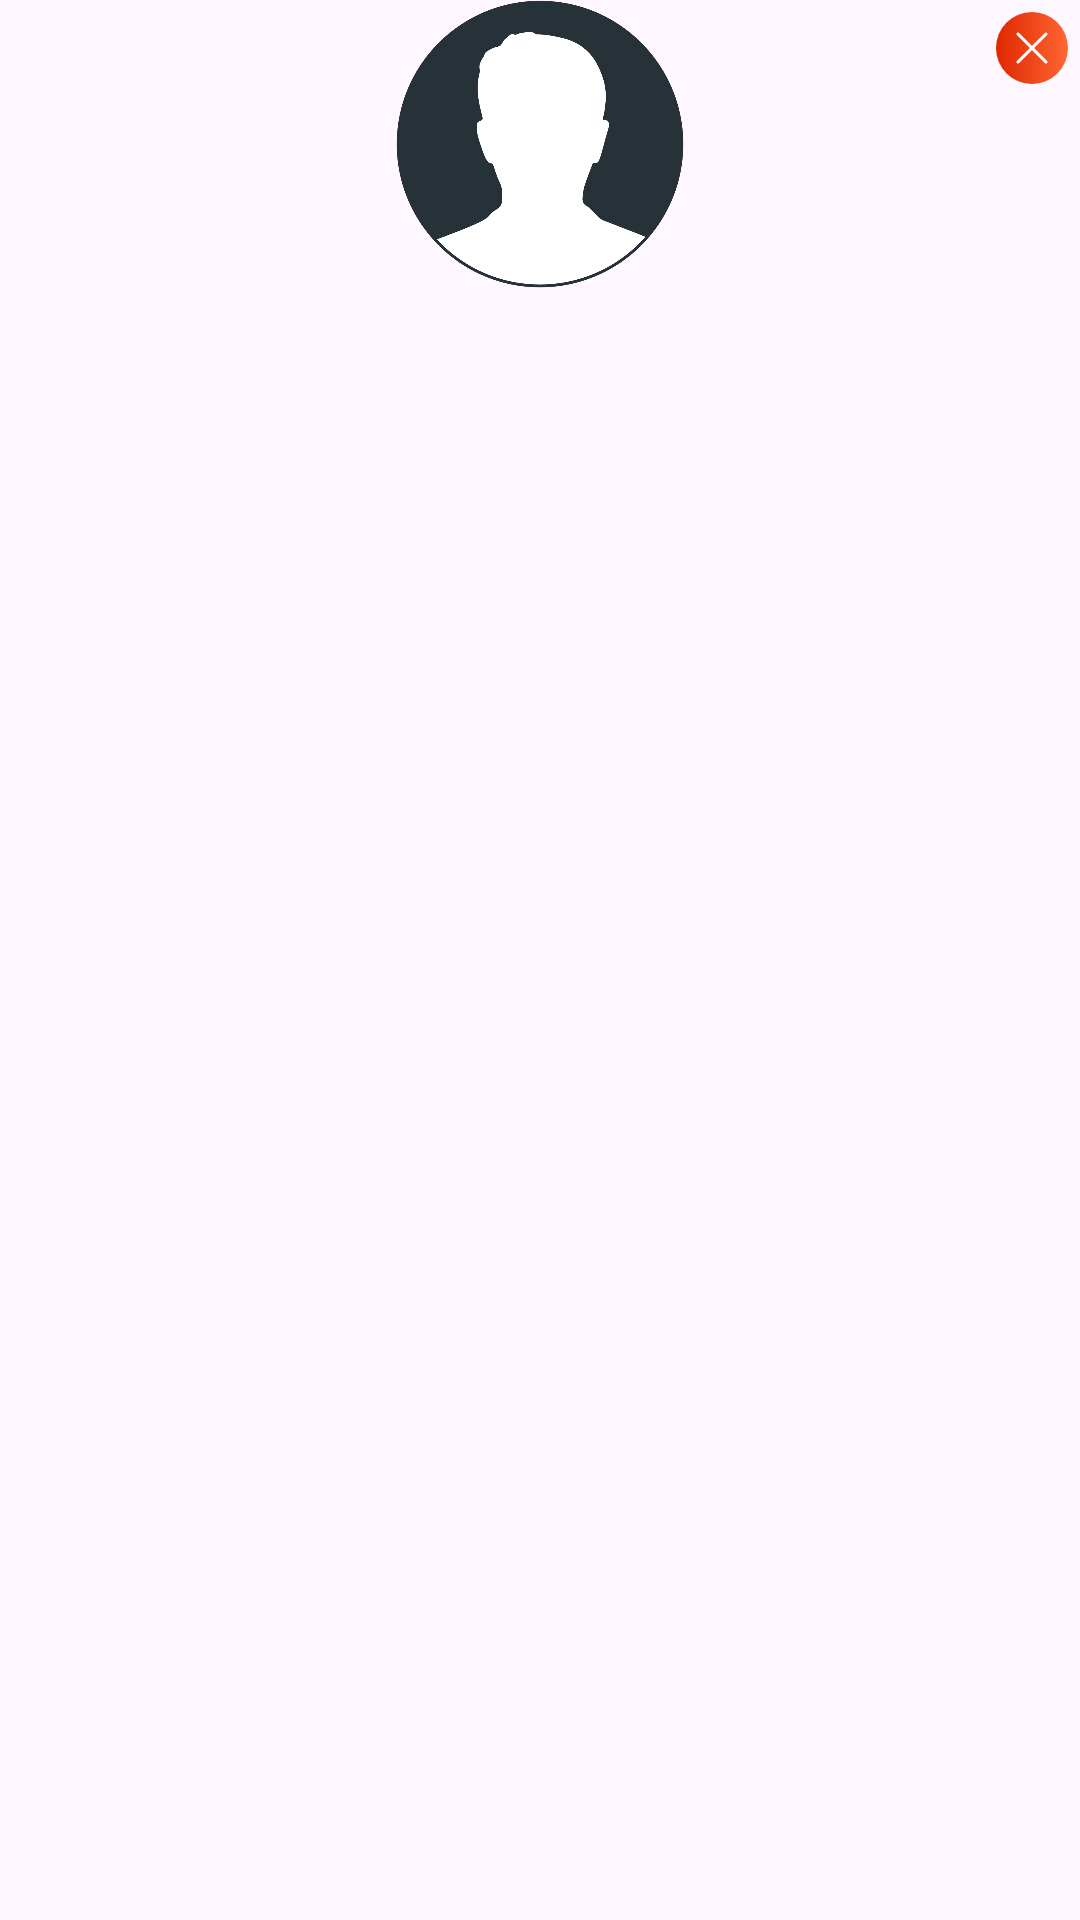

Screen size 1080 x 1920. Icon name, then its center in pixels as [x,y]:
Delete friend: [1032,48]
profile: [540,144]
